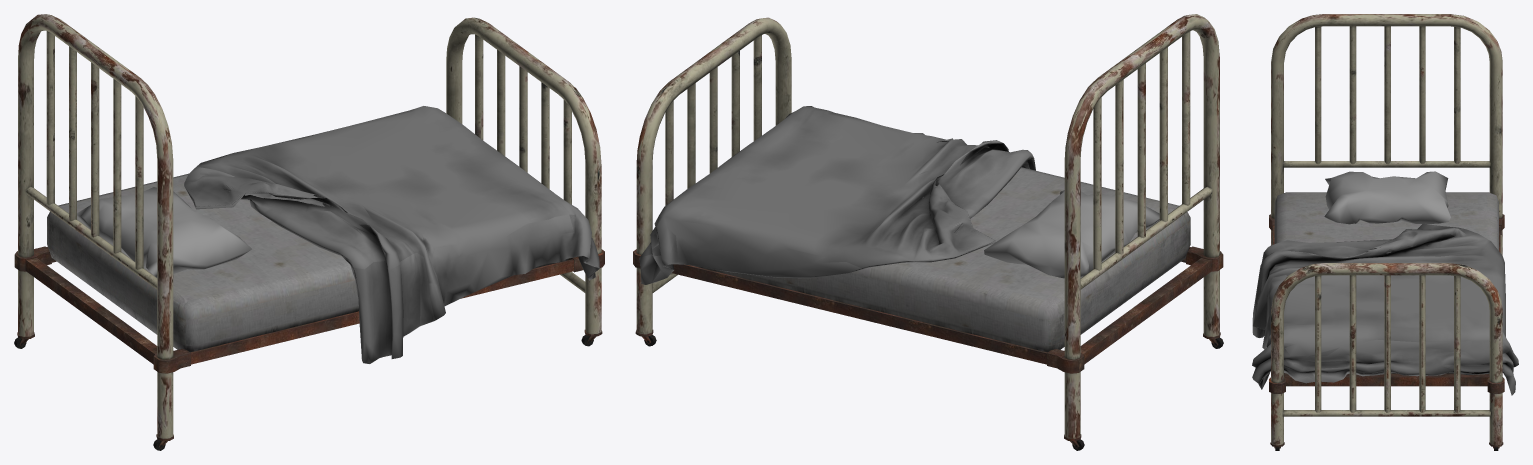
File: hospital_bed.glb
3 views of the same model, side by side, from view 1: azimuth 30°, elevation 25°; view 2: azimuth 150°, elevation 25°; view 3: azimuth 270°, elevation 25° (orthographic). The views are drawn at different scales.
Parts seen in each view (by area): view 1: low_Pillow_1; view 2: low_Pillow_1; view 3: low_Pillow_1.
Boxes of the visible parts, x1,y1,x2,y2 form: low_Pillow_1: (14,14,604,450); low_Pillow_1: (633,14,1223,450); low_Pillow_1: (1252,14,1518,450).
Size of the model in its own units: 2.05 by 1.53 by 1.35.
3 materials, 2 textured.
